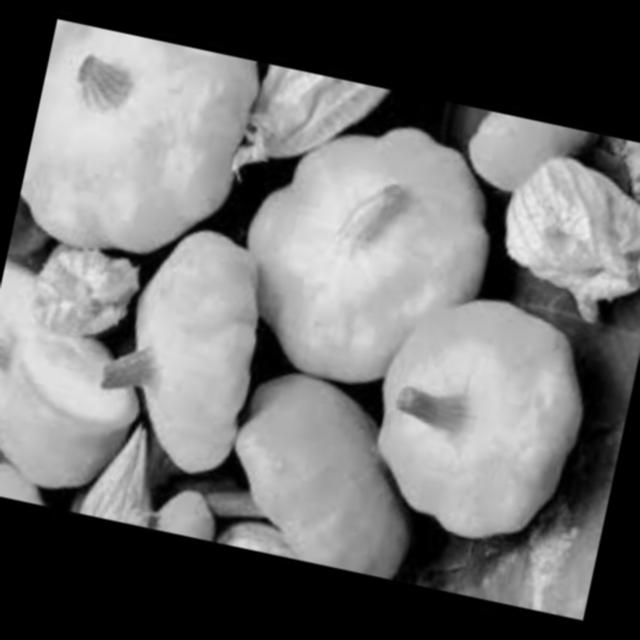squash: (186, 84, 500, 413), (340, 264, 622, 573), (8, 20, 274, 298), (77, 214, 299, 506), (212, 366, 446, 584), (0, 216, 171, 507), (452, 109, 588, 228), (118, 469, 236, 545)
